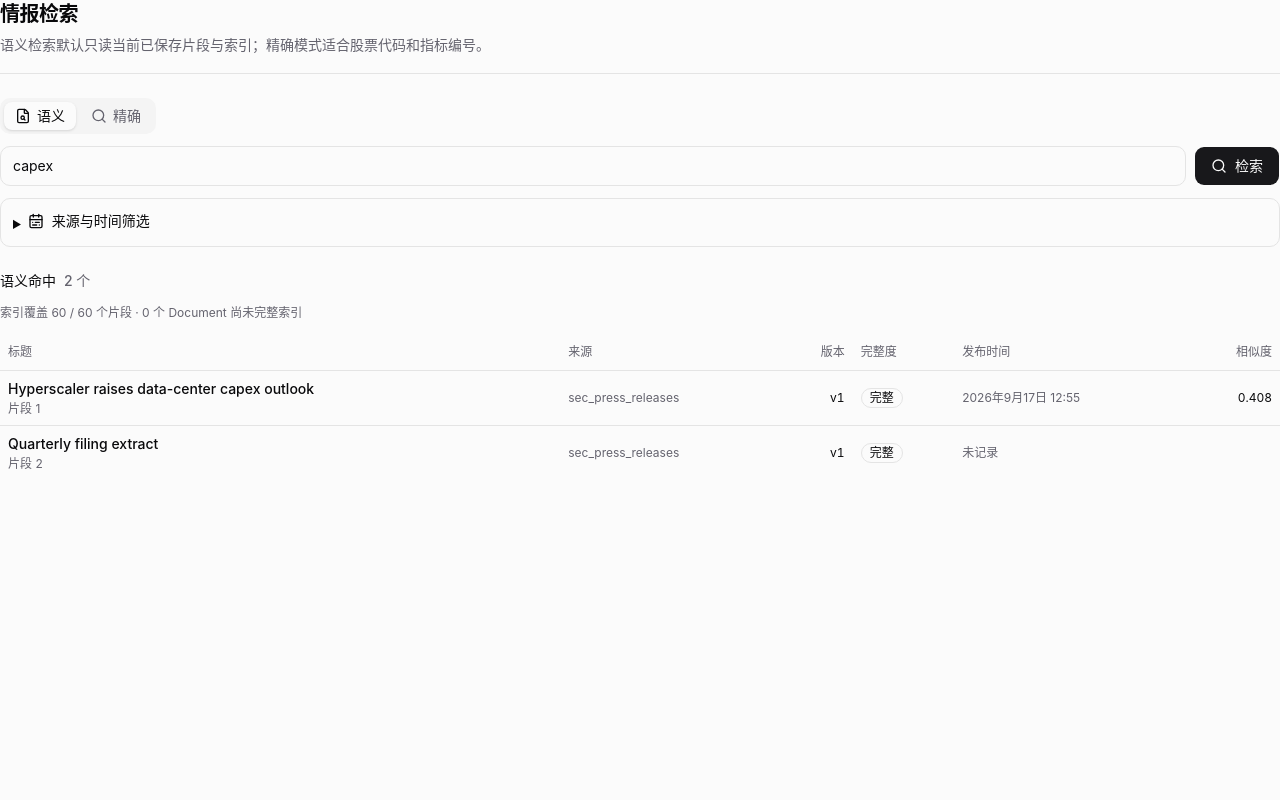
Test: IntelligencePage against real API response shapes › opens the document sheet from a hit row, shows chunks and facts, and removes the param on close
The image size is (1280, 800).
Click the button named "查看 Hyperscaler raises data-center capex outlook 的 Document 详情".
click(280, 398)  # box [8,379,552,417]
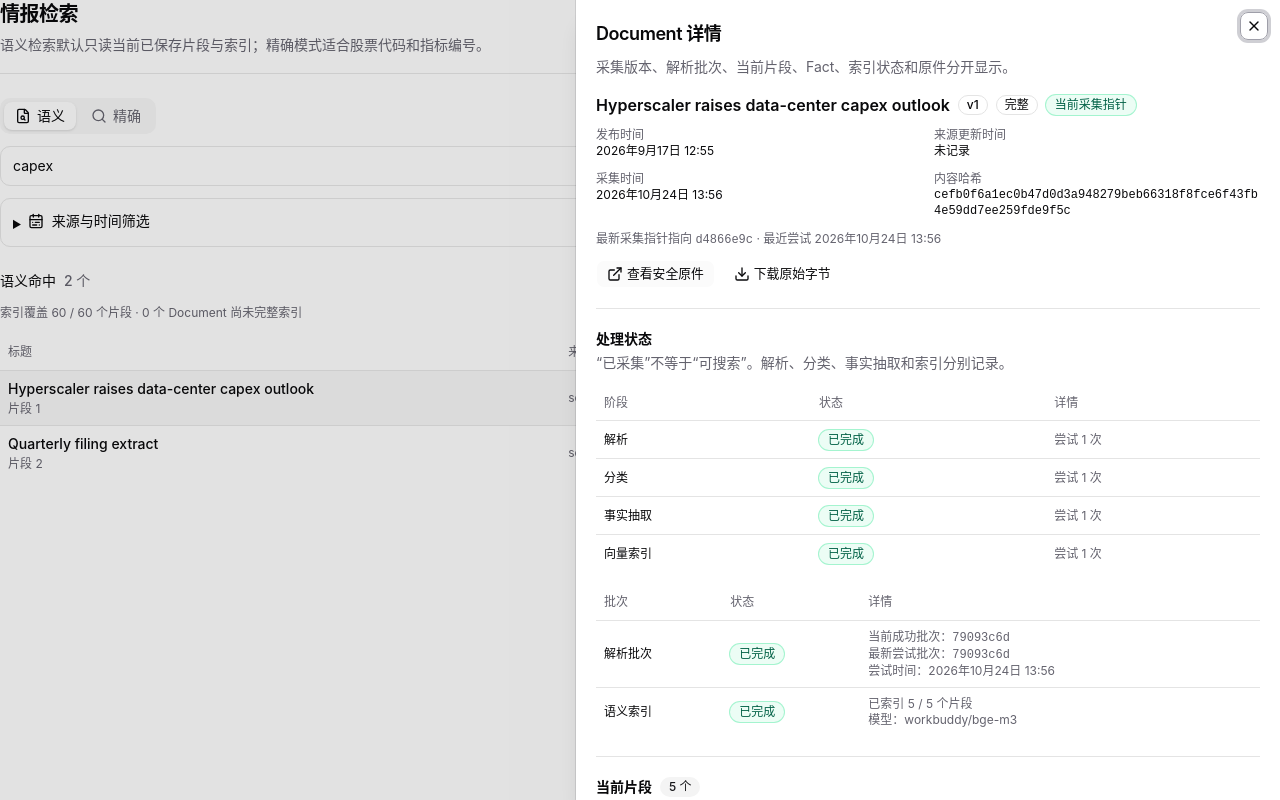
Result: the heading "当前片段" is shown at [596,777,652,797]
Result: the dialog "Document 详情" is shown at [576,0,1279,799]
Click the button named "关闭".
click(1254, 26)  # box [1240,12,1268,40]
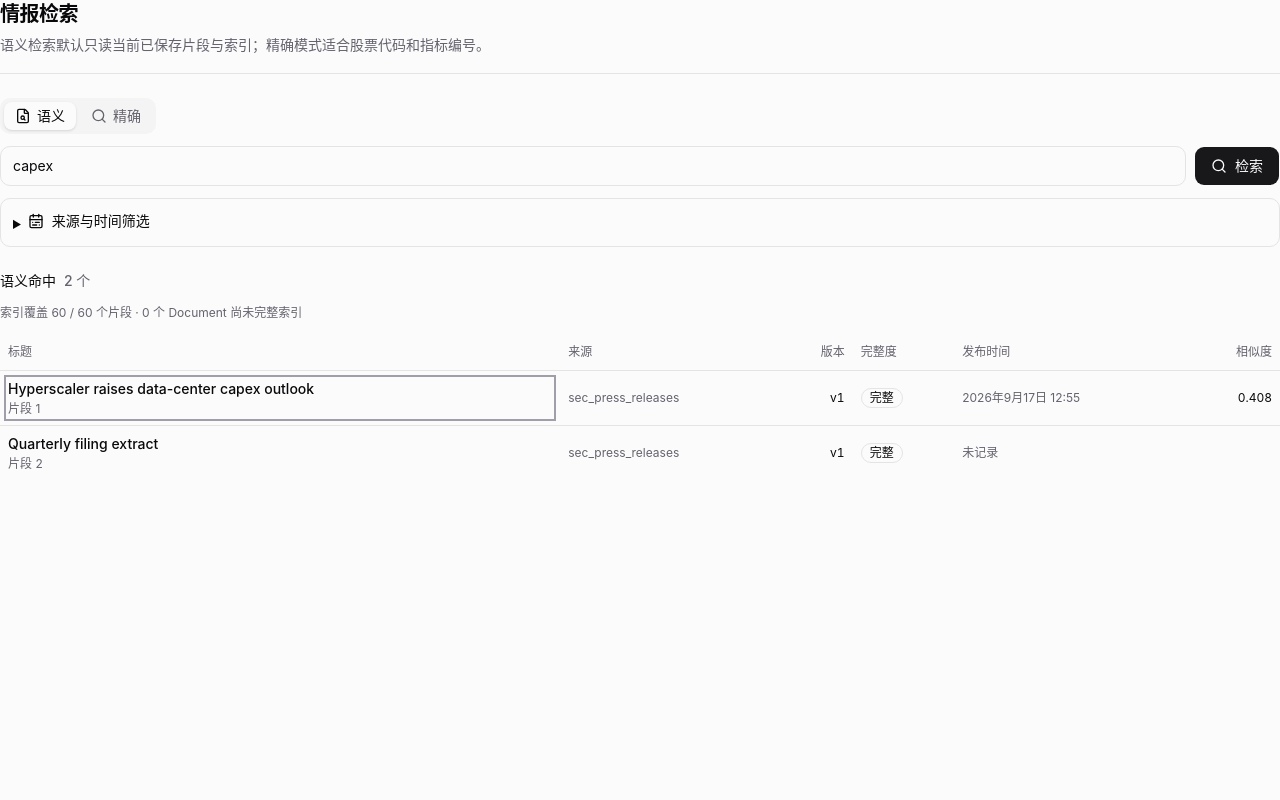
Result: the heading "Document 详情" is gone
